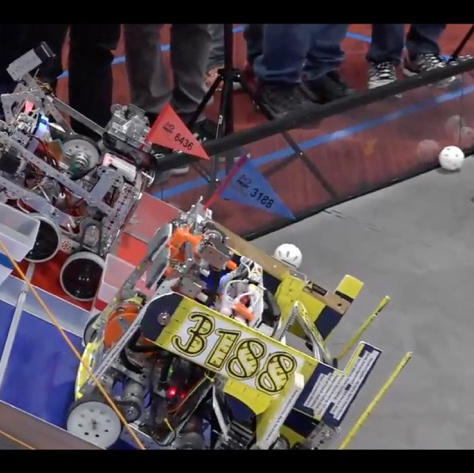robot: (63, 149, 416, 451), (0, 42, 210, 305)
